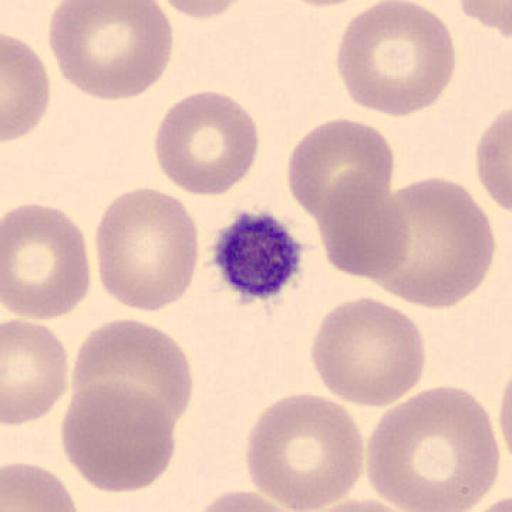Platelet: (209, 207, 307, 305)
RBC: (366, 385, 499, 512), (373, 175, 496, 310), (243, 392, 366, 512), (335, 0, 457, 117), (93, 185, 201, 313), (71, 316, 194, 427), (308, 295, 426, 409), (61, 380, 177, 494), (46, 1, 174, 102), (286, 116, 395, 231), (152, 89, 260, 197), (311, 167, 410, 282), (1, 201, 91, 321), (2, 318, 69, 428), (2, 33, 52, 143), (475, 106, 512, 217), (1, 461, 79, 512), (190, 489, 301, 512), (296, 495, 426, 512), (456, 0, 512, 39), (159, 0, 246, 20), (498, 371, 512, 460), (459, 495, 512, 512), (281, 0, 373, 7)
